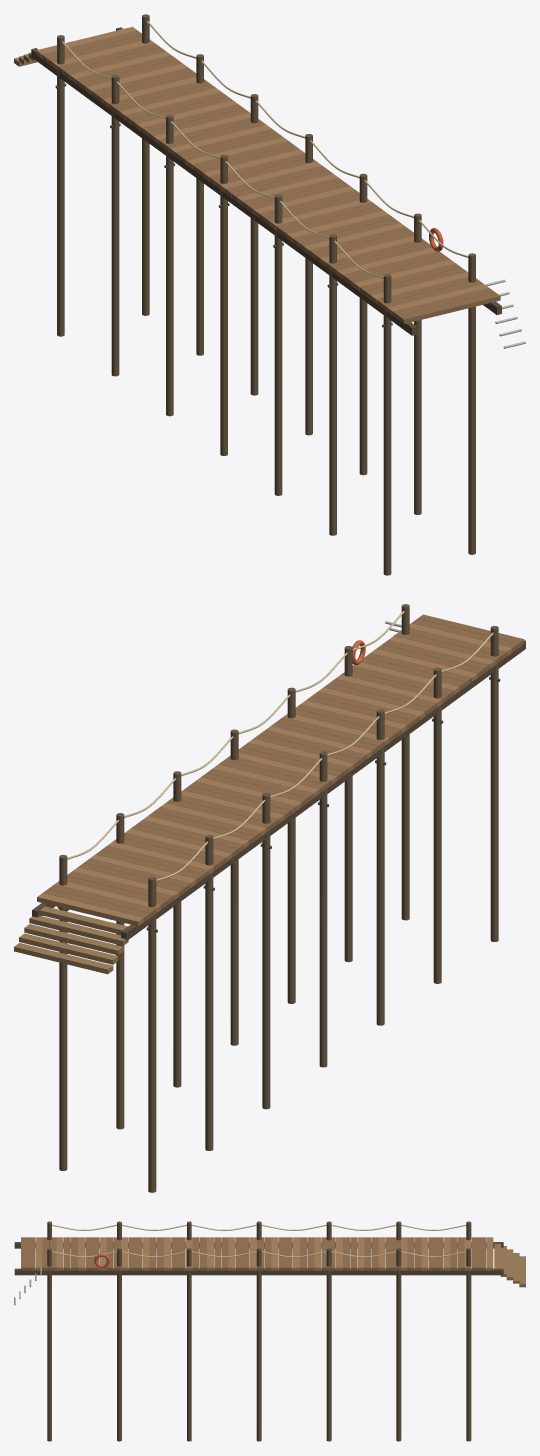
The model's file is pier.glb.
3 views of the same model, one above another, from view 1: azimuth 30°, elevation 25°; view 2: azimuth 150°, elevation 25°; view 3: azimuth 270°, elevation 25° (orthographic). The views are drawn at different scales.
Parts seen in each view (by area): view 1: TimberPlankAssembly (×2), TimberPileAssembly, LongitudinalBeamAssembly, RopeRailAssembly; view 2: TimberPlankAssembly (×2), TimberPileAssembly, BeachAccessStepAssembly, LongitudinalBeamAssembly, RopeRailAssembly; view 3: TimberPlankAssembly (×2), TimberPileAssembly, LongitudinalBeamAssembly, RopeRailAssembly, BeachAccessStepAssembly.
Part boxes in pixels (bbox=[...]): TimberPlankAssembly (×2): bbox=[36, 27, 500, 323]; TimberPileAssembly: bbox=[57, 14, 475, 575]; LongitudinalBeamAssembly: bbox=[31, 27, 501, 335]; RopeRailAssembly: bbox=[62, 21, 468, 278]; TimberPlankAssembly (×2): bbox=[37, 614, 524, 926]; TimberPileAssembly: bbox=[59, 604, 498, 1192]; BeachAccessStepAssembly: bbox=[14, 906, 128, 974]; LongitudinalBeamAssembly: bbox=[32, 640, 525, 940]; RopeRailAssembly: bbox=[67, 611, 493, 881]; TimberPlankAssembly (×2): bbox=[21, 1237, 493, 1270]; TimberPileAssembly: bbox=[47, 1221, 471, 1441]; LongitudinalBeamAssembly: bbox=[14, 1242, 503, 1275]; RopeRailAssembly: bbox=[52, 1224, 466, 1257]; BeachAccessStepAssembly: bbox=[494, 1244, 525, 1287].
Bounding box in the file's own units: 4.95 × 12.1 × 29.32.
